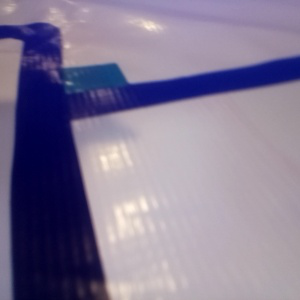top_right: (20, 62, 129, 110)
